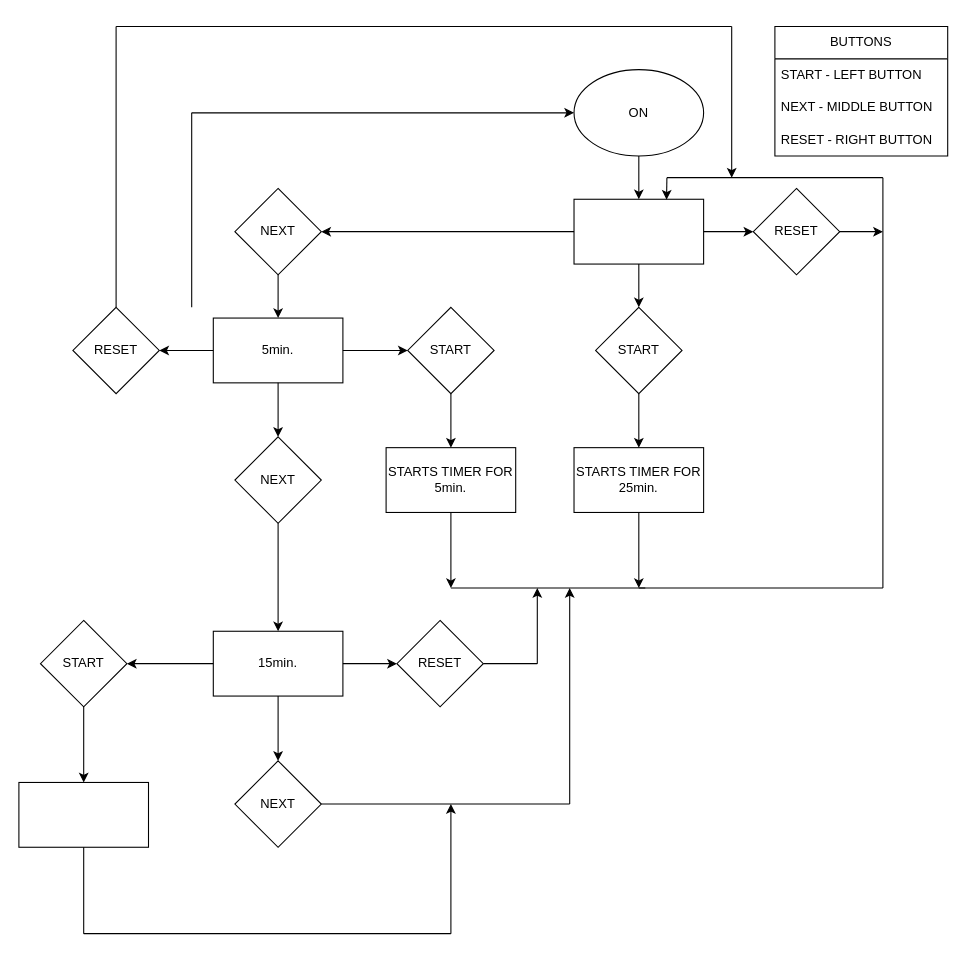
Some shapes in this 967 by 961 pixel diagram are drawn without their labels. The shapes that lost their labels are listed below. From the top down, each one's centre as x and y in pixels, then its label:
At pixel 638 231: "25min.".
At pixel 83 814: "STARTS TIMER FOR 15min.".
